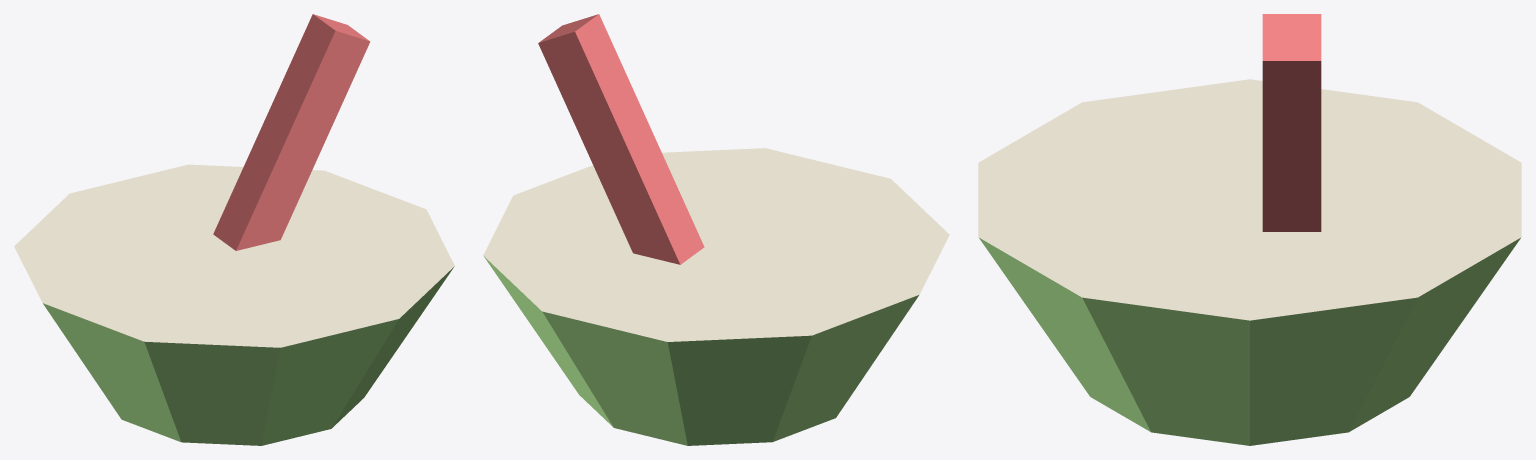
Rendered from bowl.glb.
The picture shows the model from 3 angles, left to right: view 1: azimuth 30°, elevation 25°; view 2: azimuth 150°, elevation 25°; view 3: azimuth 270°, elevation 25°; orthographic projection. The views are drawn at different scales.
Visible parts, largest first — view 1: Bowl, Whisk; view 2: Bowl, Whisk; view 3: Bowl, Whisk.
Part boxes in pixels (<box>): Bowl: <box>14,164,454,445</box>; Whisk: <box>213,14,370,250</box>; Bowl: <box>483,148,949,445</box>; Whisk: <box>538,14,704,264</box>; Bowl: <box>978,79,1521,445</box>; Whisk: <box>1262,14,1321,231</box>.
Bounding box in the file's own units: 0.68 × 0.5619 × 0.6467.
